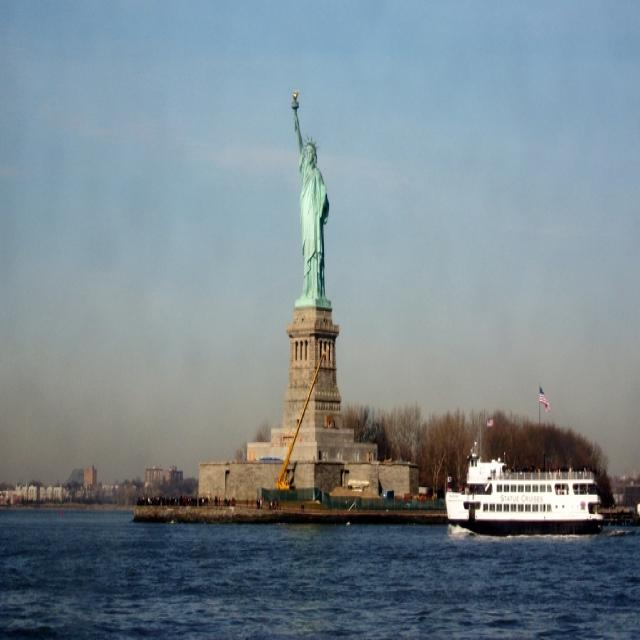Boat: (449, 429, 600, 533)
